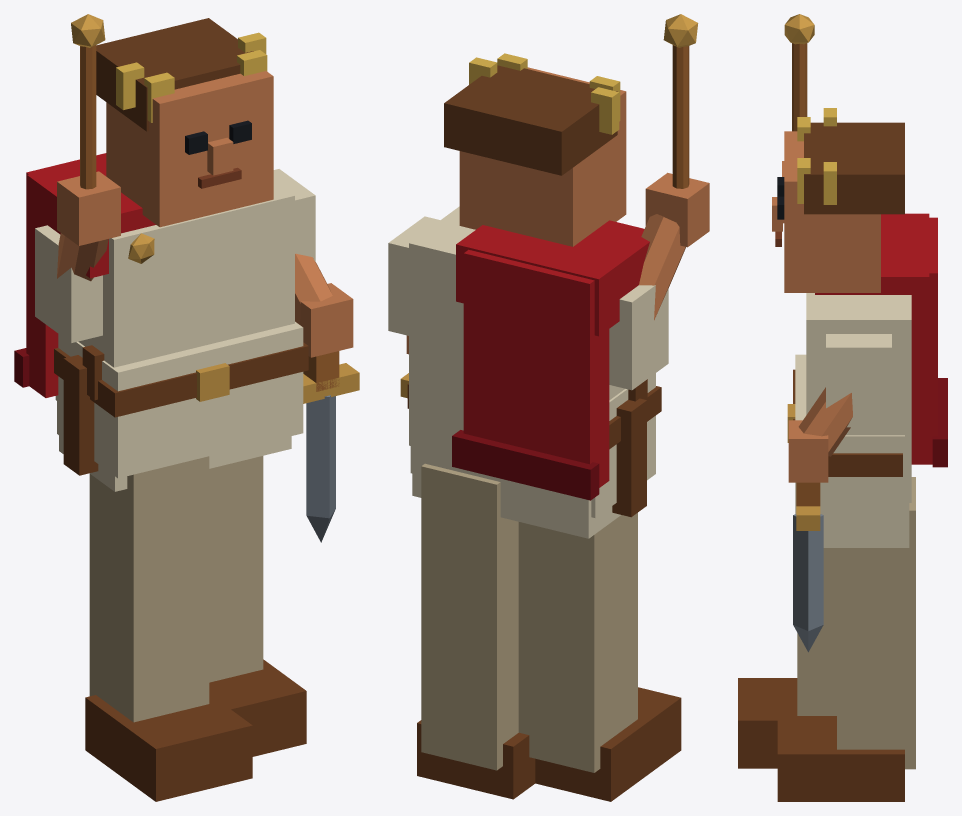
Rendered from cesare.glb.
3 views of the same model, side by side, from view 1: azimuth 30°, elevation 25°; view 2: azimuth 150°, elevation 25°; view 3: azimuth 270°, elevation 25° (orthographic). The views are drawn at different scales.
Parts seen in each view (by area): view 1: 01_Cesare_Gamba_Sinistra, 11_Cesare_Tunica, 12_Cesare_Falda_Tunica, 31_Cesare_Viso, 03_Cesare_Caliga_Sinistra, 02_Cesare_Gamba_Destra, 36_Cesare_Capelli, 04_Cesare_Caliga_Destra, 50_Cesare_Manica_Sinistra, 13_Cesare_Cintura, 52_Cesare_Mano_Sinistra_Bastone, 65_Cesare_Lama_Gladio (+18 smaller); view 2: 02_Cesare_Gamba_Destra, 01_Cesare_Gamba_Sinistra, 21_Cesare_Paludamentum_Schiena, 36_Cesare_Capelli, 31_Cesare_Viso, 11_Cesare_Tunica, 20_Cesare_Paludamentum_Spalla, 03_Cesare_Caliga_Sinistra, 22_Cesare_Paludamentum_Bordo, 10_Cesare_Bacino, 50_Cesare_Manica_Sinistra, 04_Cesare_Caliga_Destra (+9 smaller); view 3: 02_Cesare_Gamba_Destra, 31_Cesare_Viso, 04_Cesare_Caliga_Destra, 36_Cesare_Capelli, 11_Cesare_Tunica, 12_Cesare_Falda_Tunica, 60_Cesare_Manica_Destra, 20_Cesare_Paludamentum_Spalla, 03_Cesare_Caliga_Sinistra, 21_Cesare_Paludamentum_Schiena, 01_Cesare_Gamba_Sinistra, 65_Cesare_Lama_Gladio (+11 smaller).
Boxes of the visible parts, x1=… form: 01_Cesare_Gamba_Sinistra: x1=89, y1=456, x2=209, y2=722; 11_Cesare_Tunica: x1=55, y1=180, x2=294, y2=400; 12_Cesare_Falda_Tunica: x1=57, y1=321, x2=303, y2=478; 31_Cesare_Viso: x1=106, y1=71, x2=273, y2=227; 03_Cesare_Caliga_Sinistra: x1=85, y1=694, x2=252, y2=801; 02_Cesare_Gamba_Destra: x1=209, y1=456, x2=263, y2=682; 36_Cesare_Capelli: x1=96, y1=18, x2=253, y2=131; 04_Cesare_Caliga_Destra: x1=209, y1=659, x2=306, y2=756; 50_Cesare_Manica_Sinistra: x1=35, y1=225, x2=102, y2=342; 13_Cesare_Cintura: x1=54, y1=342, x2=308, y2=417; 52_Cesare_Mano_Sinistra_Bastone: x1=57, y1=171, x2=120, y2=245; 65_Cesare_Lama_Gladio: x1=306, y1=395, x2=335, y2=518; 02_Cesare_Gamba_Destra: x1=421, y1=463, x2=518, y2=770; 01_Cesare_Gamba_Sinistra: x1=518, y1=513, x2=637, y2=772; 21_Cesare_Paludamentum_Schiena: x1=463, y1=249, x2=609, y2=487; 36_Cesare_Capelli: x1=444, y1=65, x2=617, y2=175; 31_Cesare_Viso: x1=459, y1=67, x2=626, y2=246; 11_Cesare_Tunica: x1=409, y1=206, x2=624, y2=455; 20_Cesare_Paludamentum_Spalla: x1=456, y1=220, x2=649, y2=336; 03_Cesare_Caliga_Sinistra: x1=535, y1=687, x2=681, y2=801; 22_Cesare_Paludamentum_Bordo: x1=452, y1=430, x2=599, y2=500; 10_Cesare_Bacino: x1=412, y1=446, x2=620, y2=538; 50_Cesare_Manica_Sinistra: x1=609, y1=285, x2=668, y2=390; 04_Cesare_Caliga_Destra: x1=417, y1=720, x2=535, y2=799; 02_Cesare_Gamba_Destra: x1=837, y1=477, x2=915, y2=769; 31_Cesare_Viso: x1=784, y1=131, x2=880, y2=292; 04_Cesare_Caliga_Destra: x1=777, y1=711, x2=904, y2=801; 36_Cesare_Capelli: x1=804, y1=122, x2=904, y2=214; 11_Cesare_Tunica: x1=806, y1=293, x2=911, y2=502; 12_Cesare_Falda_Tunica: x1=795, y1=354, x2=904, y2=531; 60_Cesare_Manica_Destra: x1=826, y1=334, x2=891, y2=427; 20_Cesare_Paludamentum_Spalla: x1=815, y1=213, x2=929, y2=328; 03_Cesare_Caliga_Sinistra: x1=738, y1=678, x2=836, y2=768; 21_Cesare_Paludamentum_Schiena: x1=911, y1=217, x2=937, y2=464; 01_Cesare_Gamba_Sinistra: x1=797, y1=548, x2=836, y2=715; 65_Cesare_Lama_Gladio: x1=793, y1=514, x2=823, y2=630.
Bounding box in the file's own units: 1.37 × 3.5 × 0.955.
